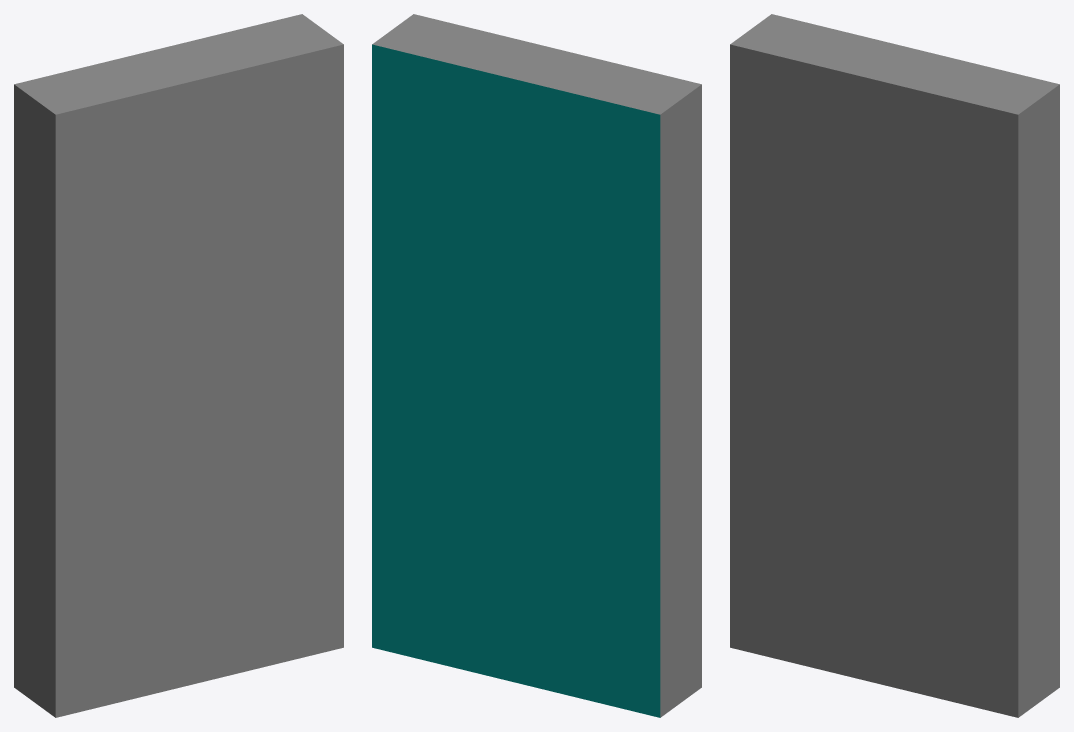
The model's file is EN_W_wall_2x4_transition.fbx.
3 renders of one model, left to right at view 1: azimuth 30°, elevation 25°; view 2: azimuth 150°, elevation 25°; view 3: azimuth 330°, elevation 25°, orthographic.
Visible parts, largest first — view 1: EN_W_wall_2x4_transition; view 2: EN_W_wall_2x4_transition; view 3: EN_W_wall_2x4_transition.
Part boxes in pixels (<box>): EN_W_wall_2x4_transition: <box>14,14,343,717</box>; EN_W_wall_2x4_transition: <box>372,14,701,717</box>; EN_W_wall_2x4_transition: <box>730,14,1059,717</box>.
Size of the model in its own units: 200 by 400 by 50.
